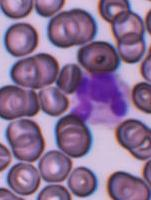N: (69, 71, 134, 126)
